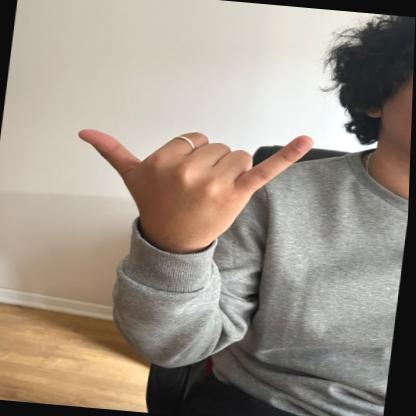Y: (64, 107, 321, 246)
